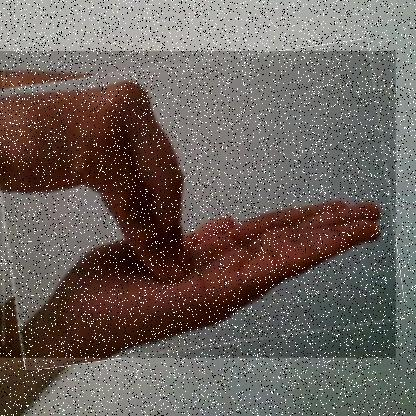Z: (0, 51, 397, 359)
